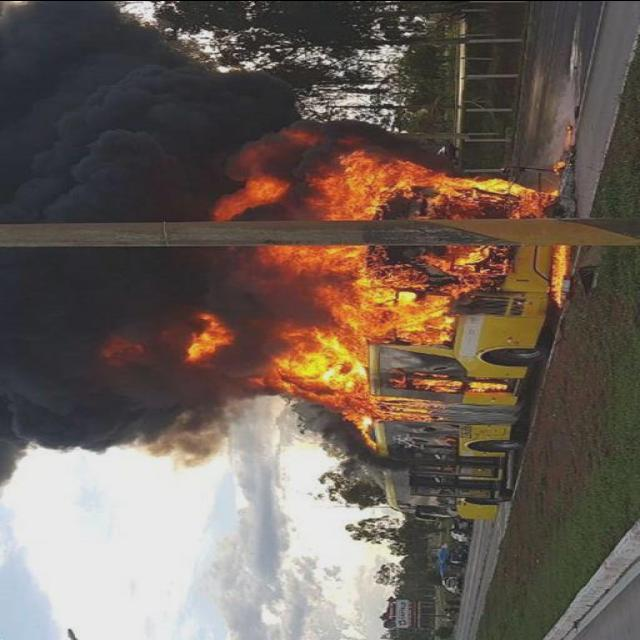Fire: (169, 133, 571, 451)
